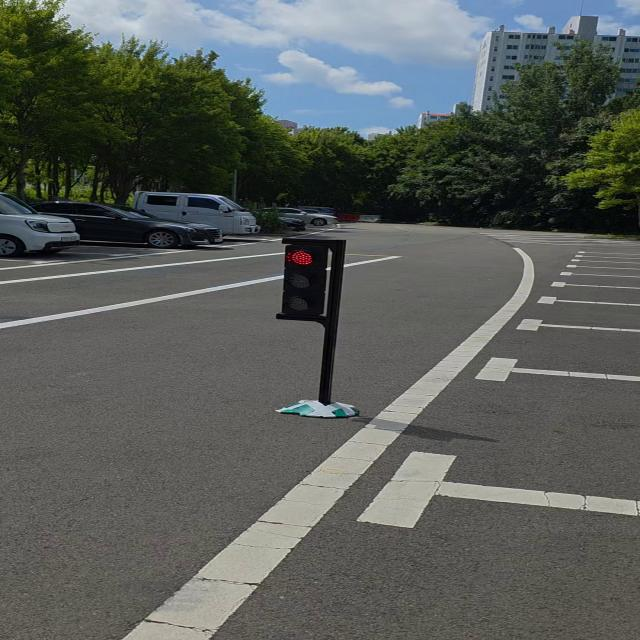red: (271, 239, 345, 324)
